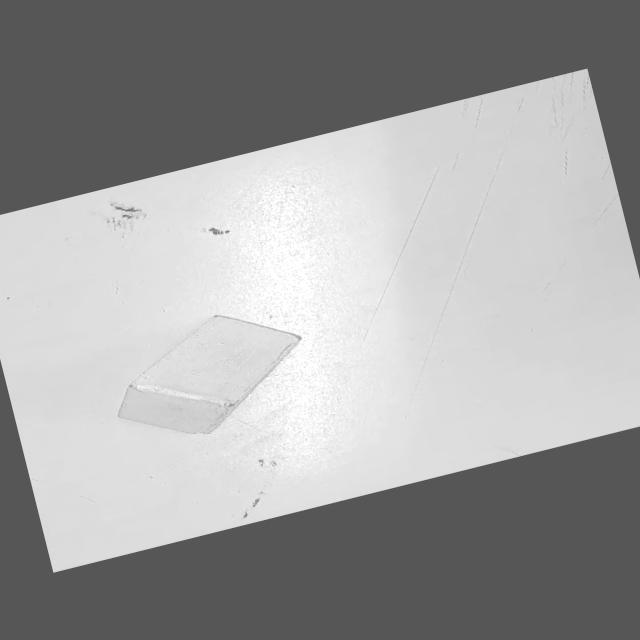ytriangle: (92, 295, 320, 461)
